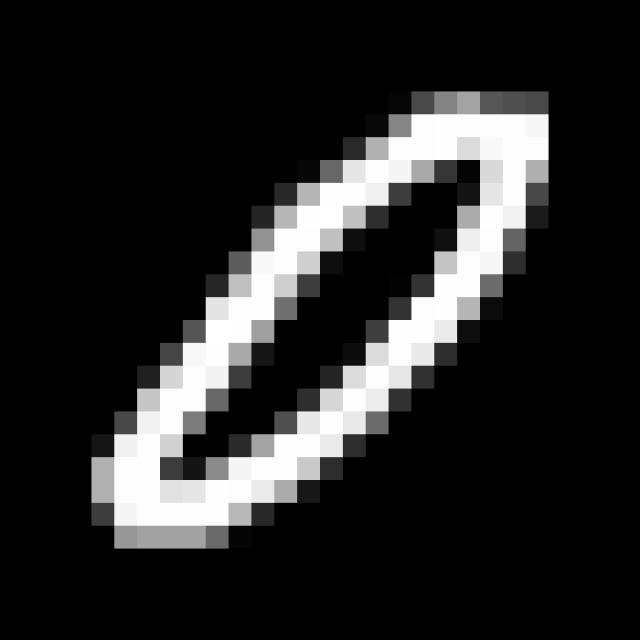zero -0-: (76, 73, 564, 563)
